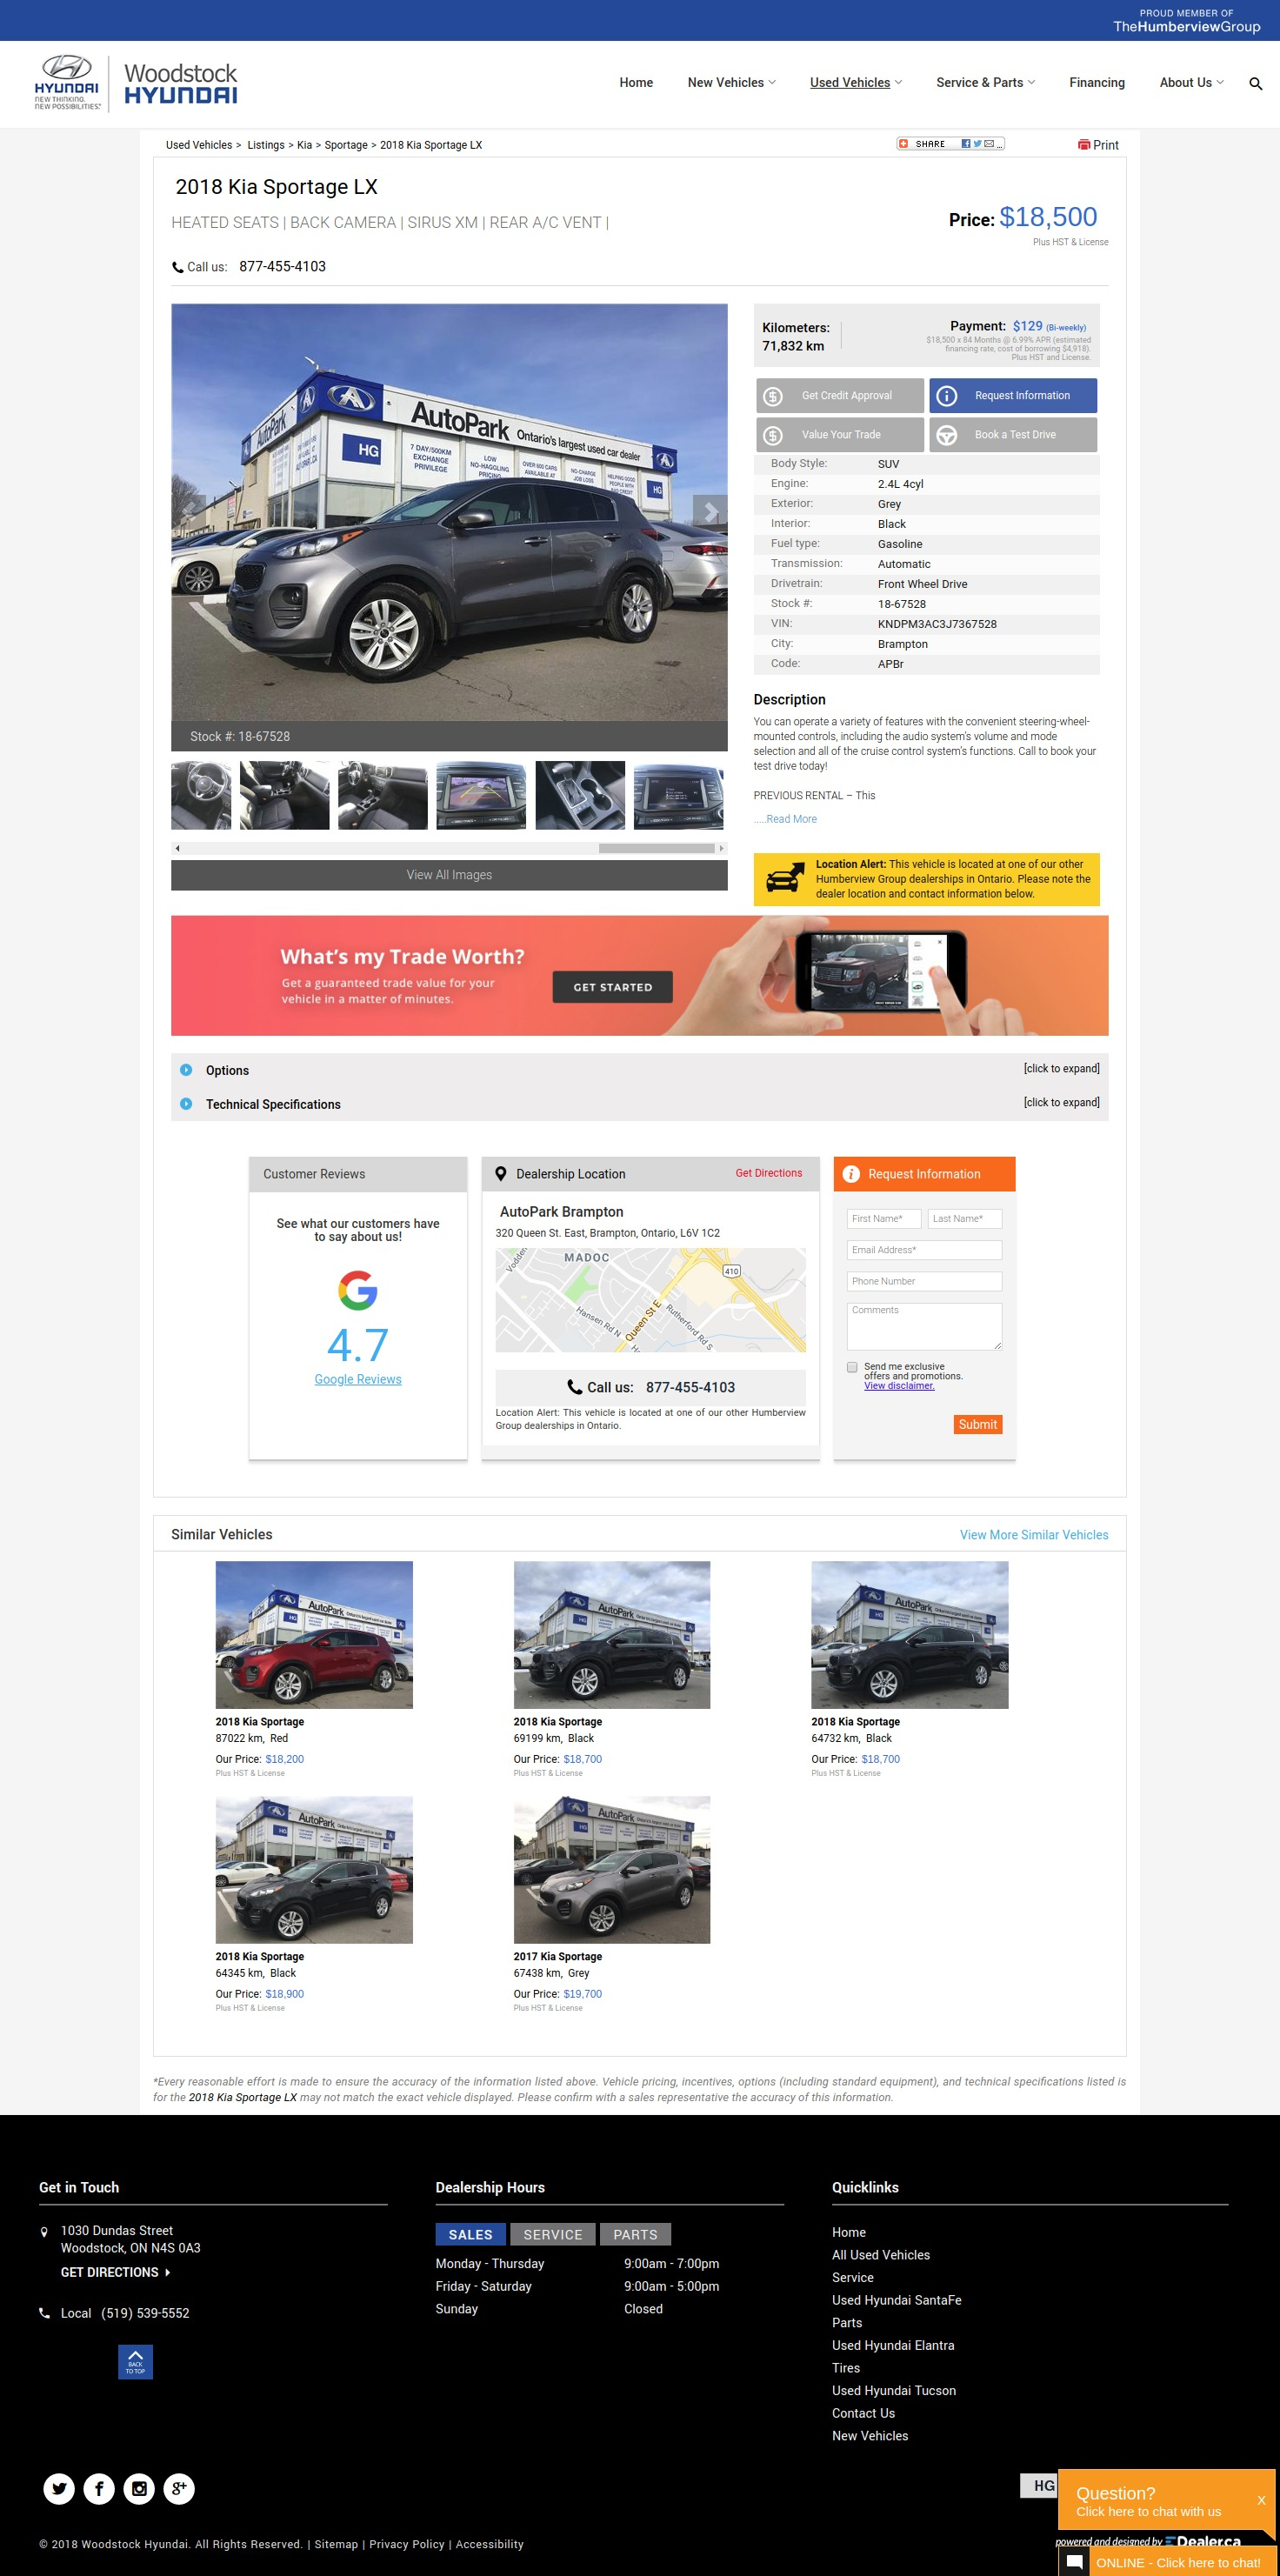car: (720, 846, 725, 853)
